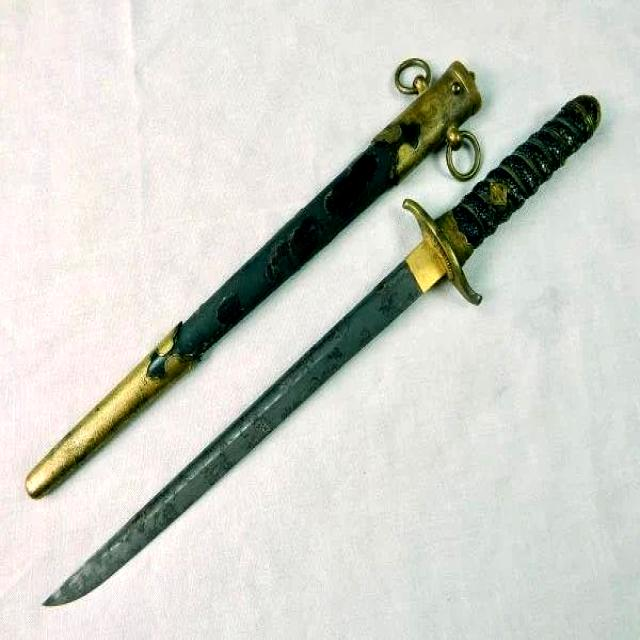short sword: (20, 42, 611, 616)
